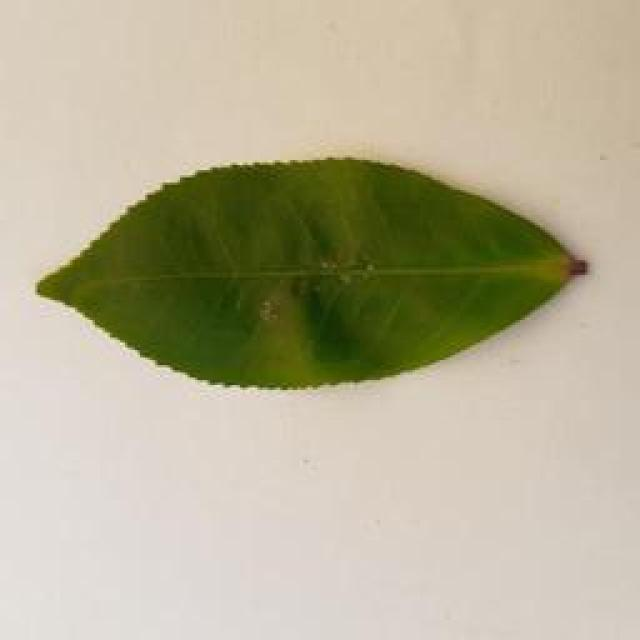Healthy: (37, 149, 597, 399)
